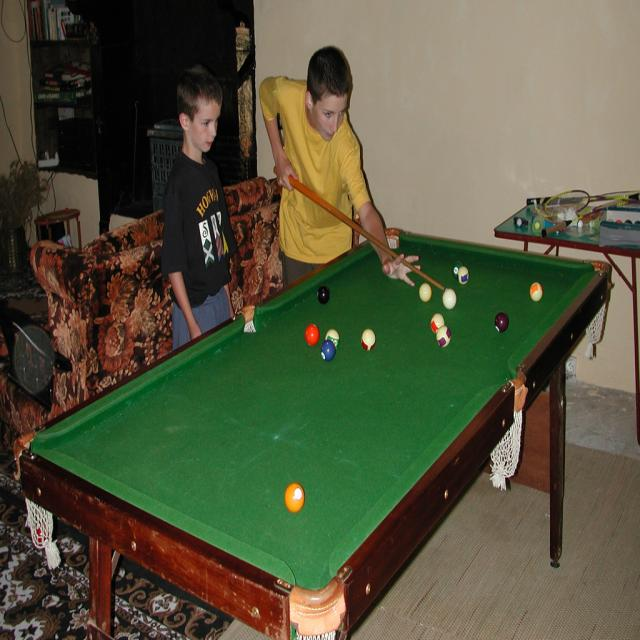Ball: (284, 261, 543, 513)
